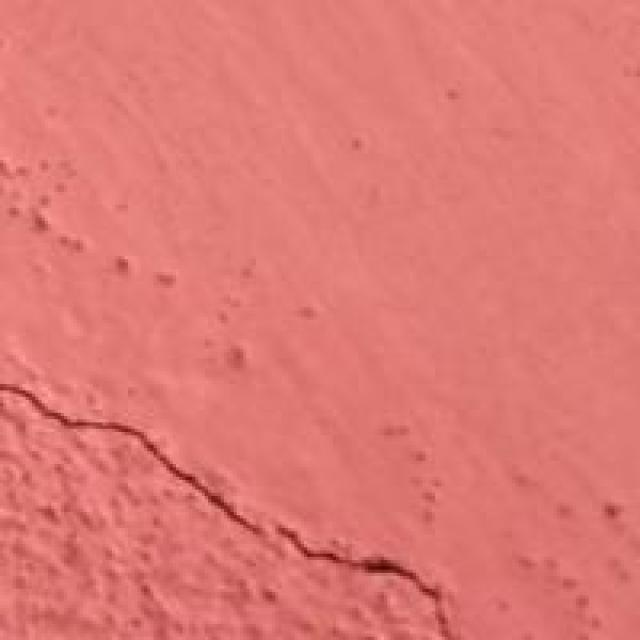Crack: (3, 346, 483, 636)
